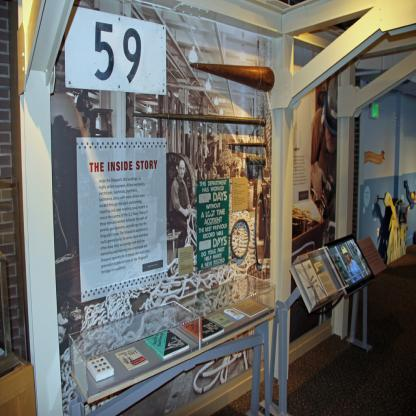book: (142, 327, 190, 361), (179, 313, 225, 343), (235, 297, 269, 319), (116, 348, 149, 370), (212, 312, 236, 328), (224, 306, 241, 319)
